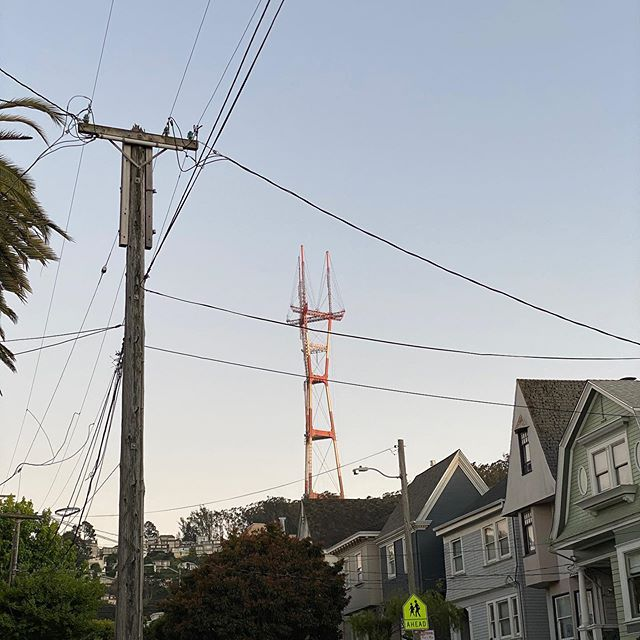building: (495, 357, 640, 640), (387, 454, 512, 640), (287, 500, 387, 640)
power pole: (70, 75, 212, 633)
sky: (6, 1, 640, 487)
tree: (149, 524, 342, 635), (1, 493, 105, 640)
